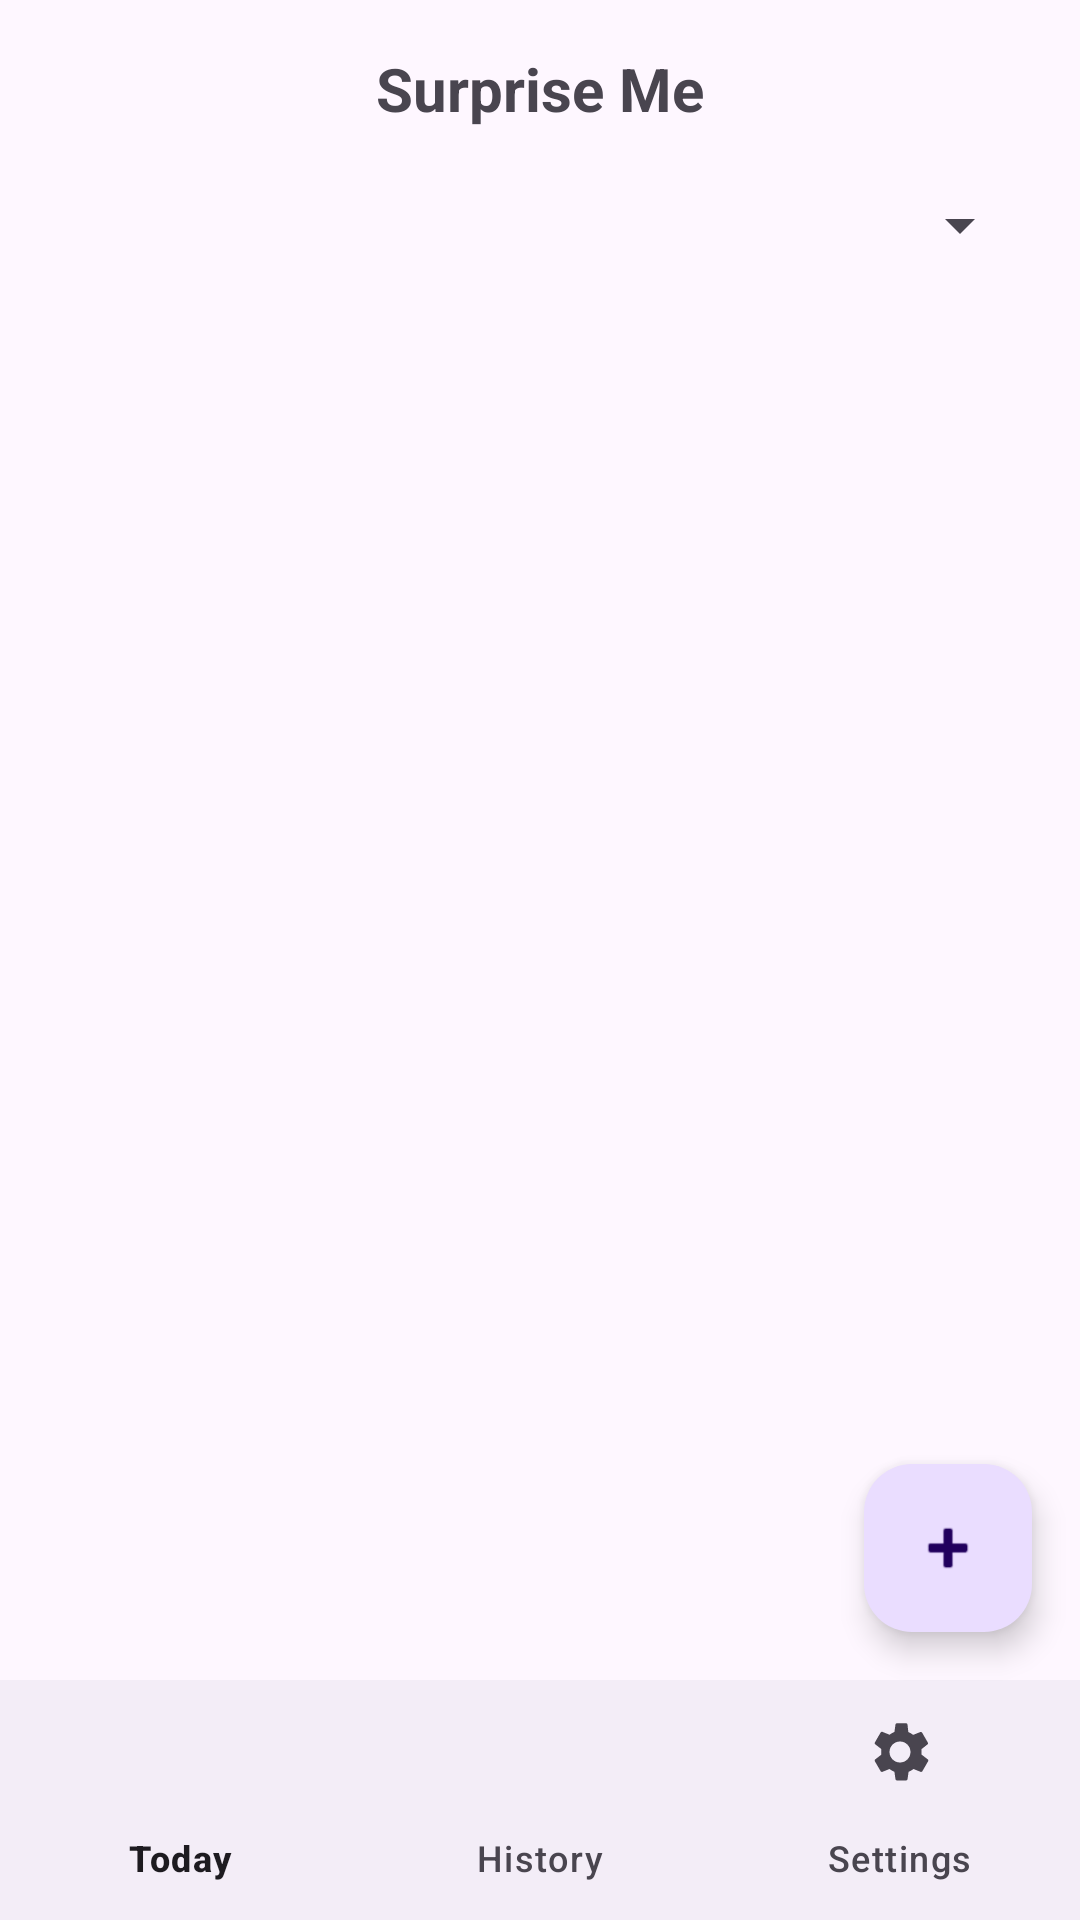

Icons on this 1080 x 1920 Android screen, each with its box as (x1, y1, x2, y2):
Add Custom Deed: (864, 1464, 1032, 1632)
